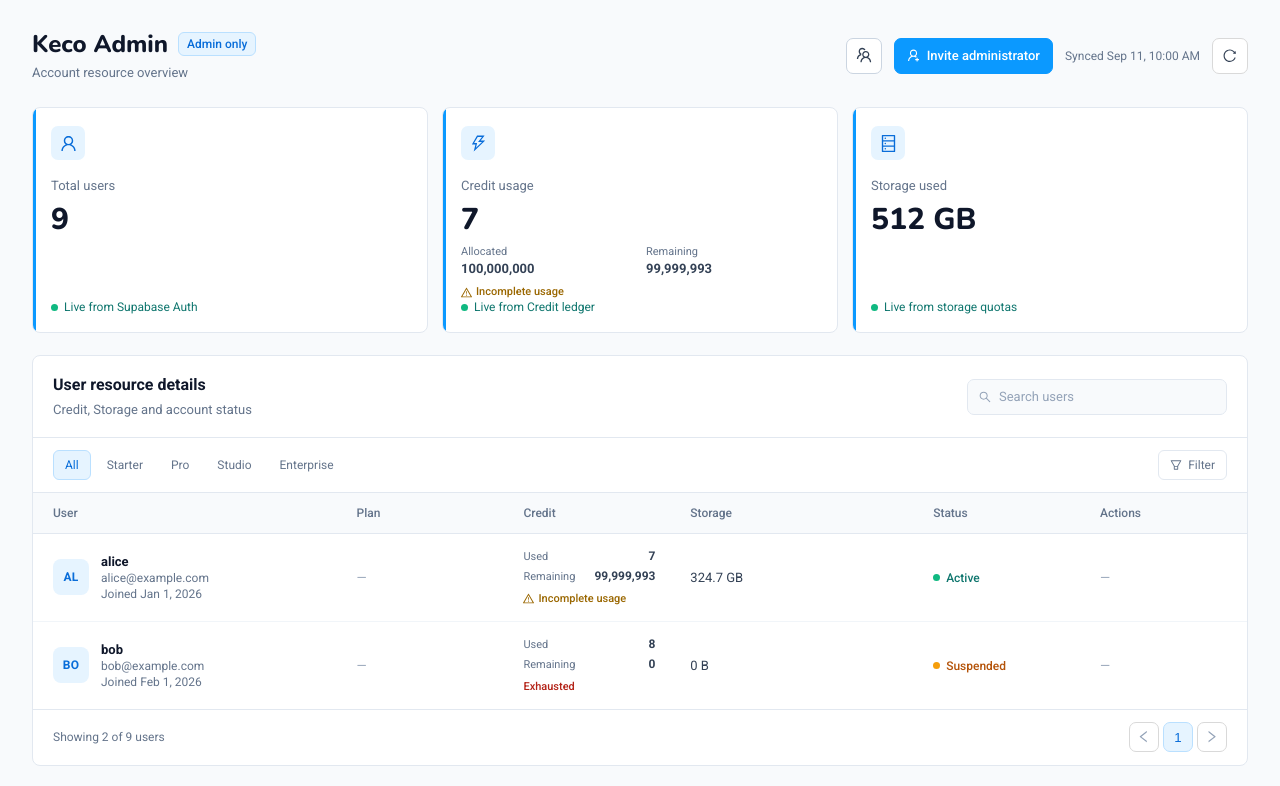
Test: Keco Admin dashboard › keeps the last account and Credit values visible when a manual refresh fails
Expected: the text with test id "keco-admin-total-users" reads "9", [51, 199, 69, 240]
Expected: the text with test id "keco-admin-credit-used" reads "7", [461, 199, 479, 240]
Click the button named "Refresh admin data" at (1230, 56), box [1212, 38, 1248, 74]
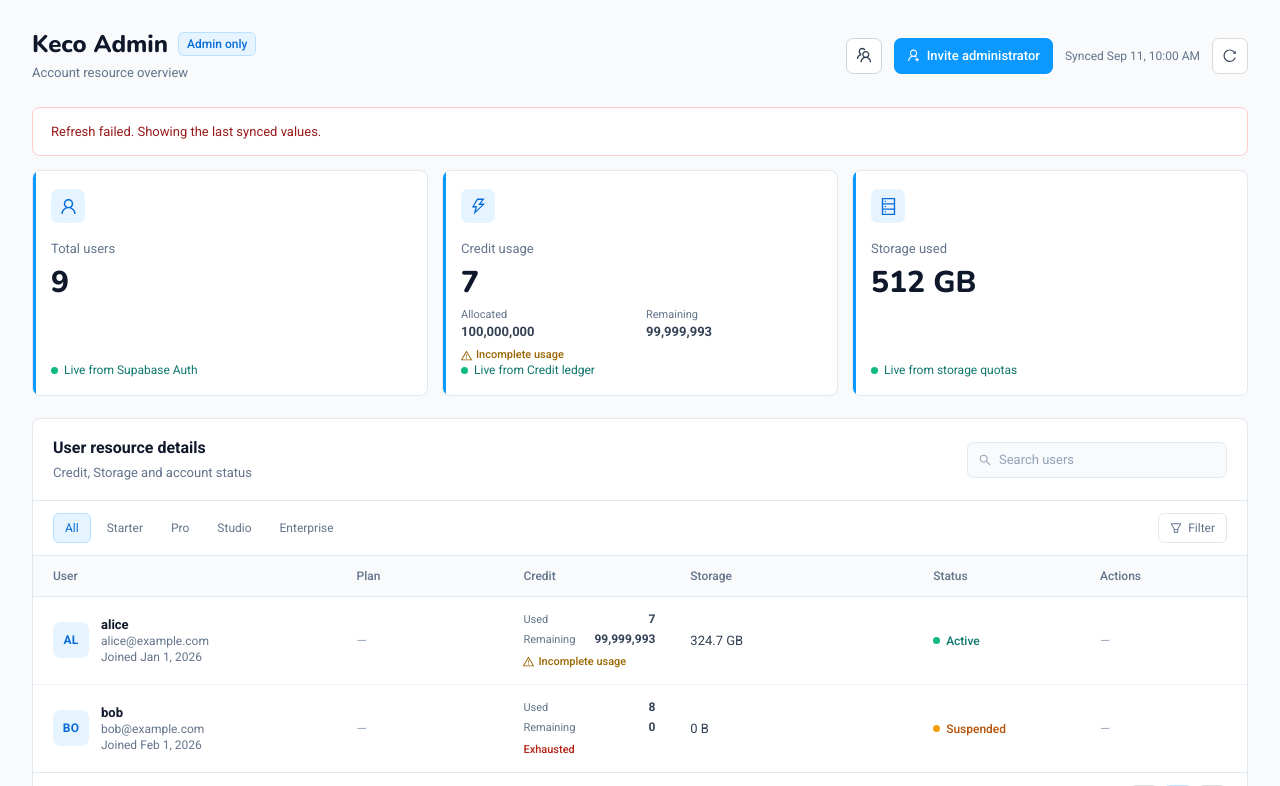
Expected: the text with test id "keco-admin-total-users" reads "9", [51, 262, 69, 303]
Expected: the text "Refresh failed. Showing the last synced values." is shown, [32, 107, 1248, 156]
